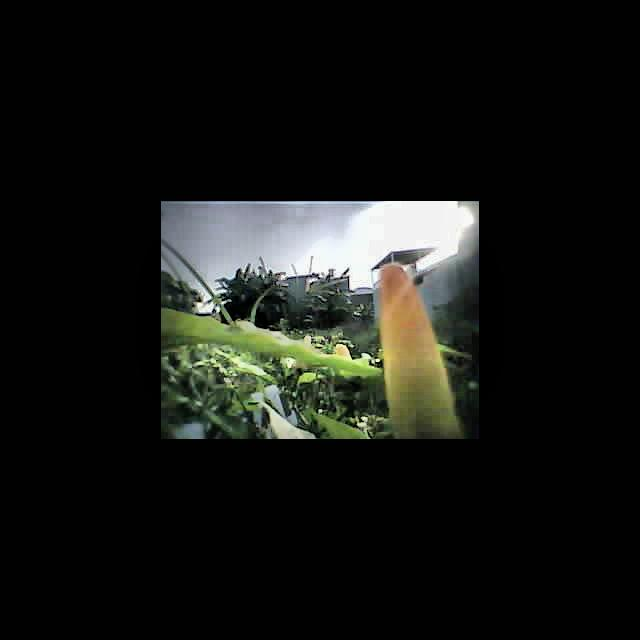Cabai: (378, 262, 460, 439)
